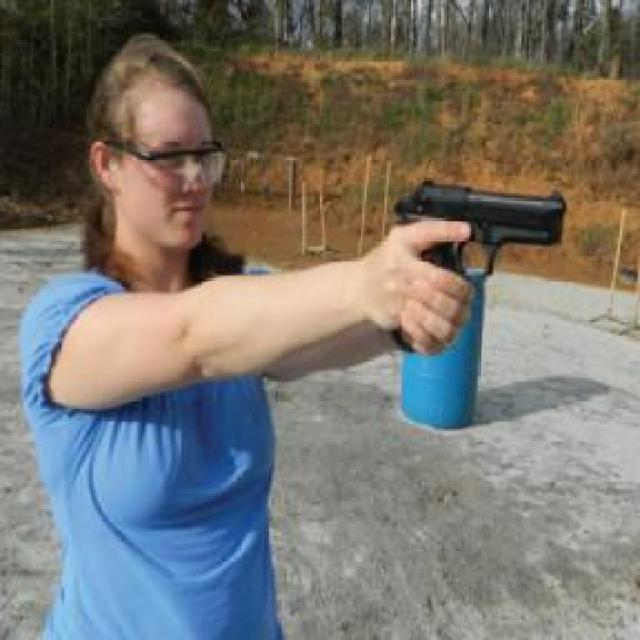pistol: (396, 180, 566, 351)
